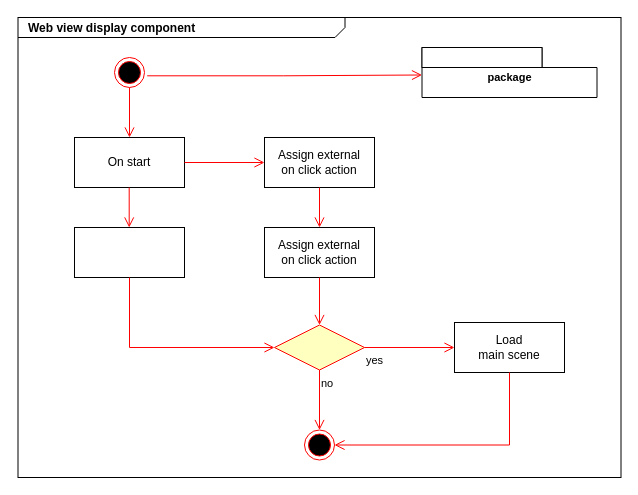
The diagram is 638 pixels wide and 495 high, and some of its shapes have lost their labels. Each missing label, with the centre of its shape:
"gree/unity-webview" belongs at point 481,57.
"id equals uid" belongs at point 319,347.
"On press ESC" belongs at point 129,252.
